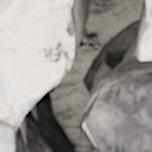broken_brick: (88, 58, 151, 151), (0, 119, 10, 127)
crack: (0, 0, 151, 151)
